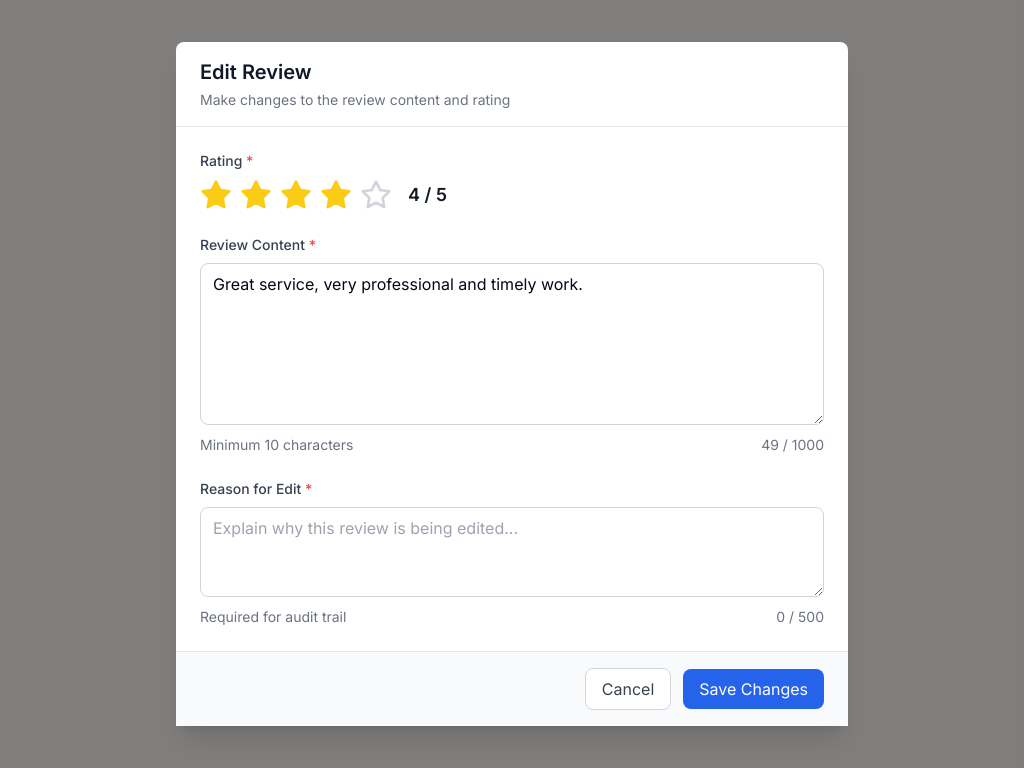
Scenario: ReviewEditForm › validates edit reason is required
Step 1. Click the button "Save Changes" → (754, 689), box top-left (683, 669), bottom-right (824, 709)
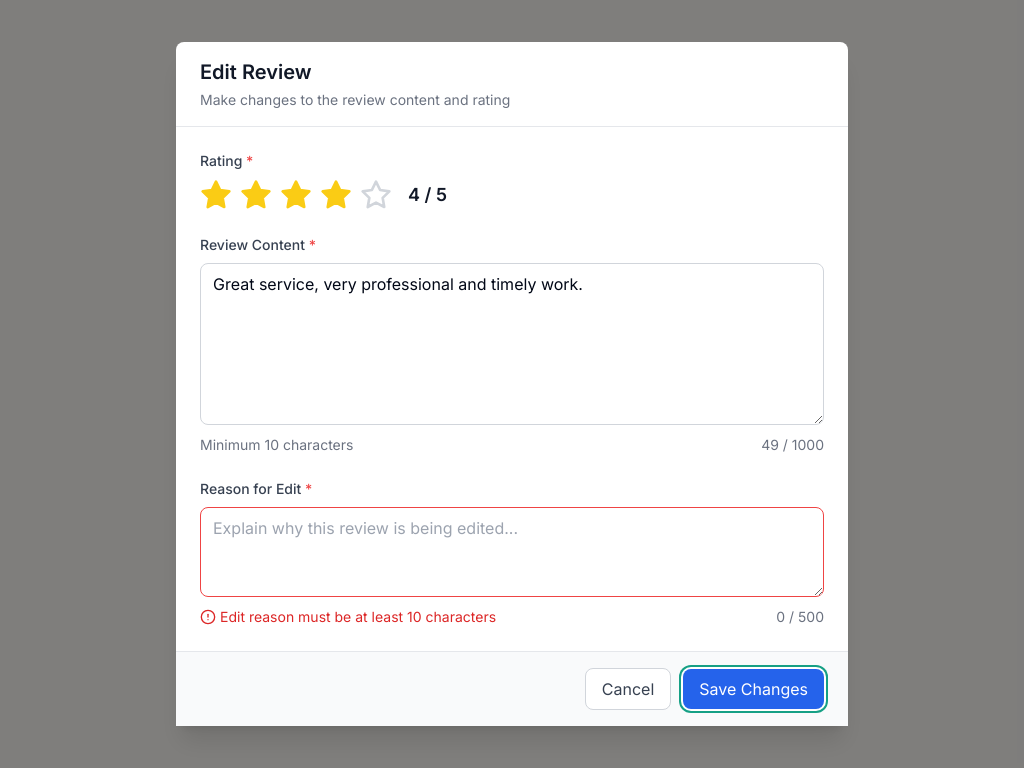
Result: the text "Edit reason must be at least 10 characters" is shown at top-left (200, 607), bottom-right (496, 627)
